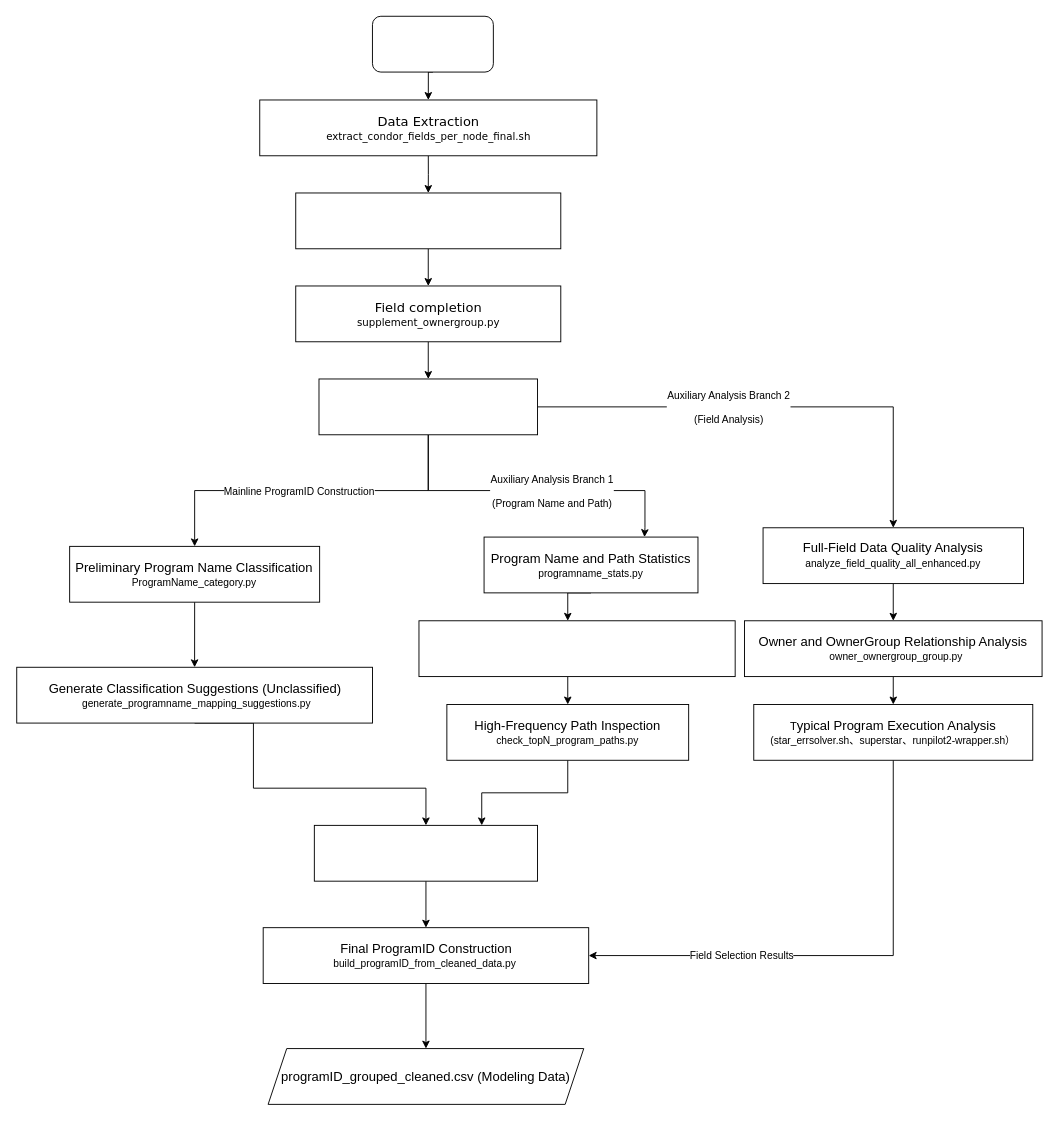
The diagram is 1058 pixels wide and 1121 high, and some of its shapes have lost their labels. Each missing label, with the centre of its shape:
"Construction programname-mapping" belongs at point (425, 852).
"Data Cleaning clean_merged_data.py" belongs at point (428, 406).
"Data Merging merge_all_nodes_clean.py" belongs at point (428, 220).
"Overall Distribution of Program Names analyze_programname_unique_distribution.py" belongs at point (576, 648).
"Raw Log Data (.gz)" belongs at point (432, 43).
